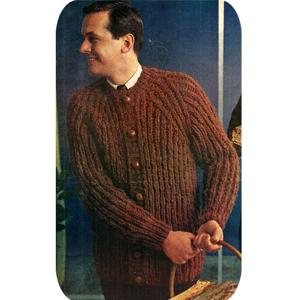C_cardigan sweater: (68, 70, 249, 283)
